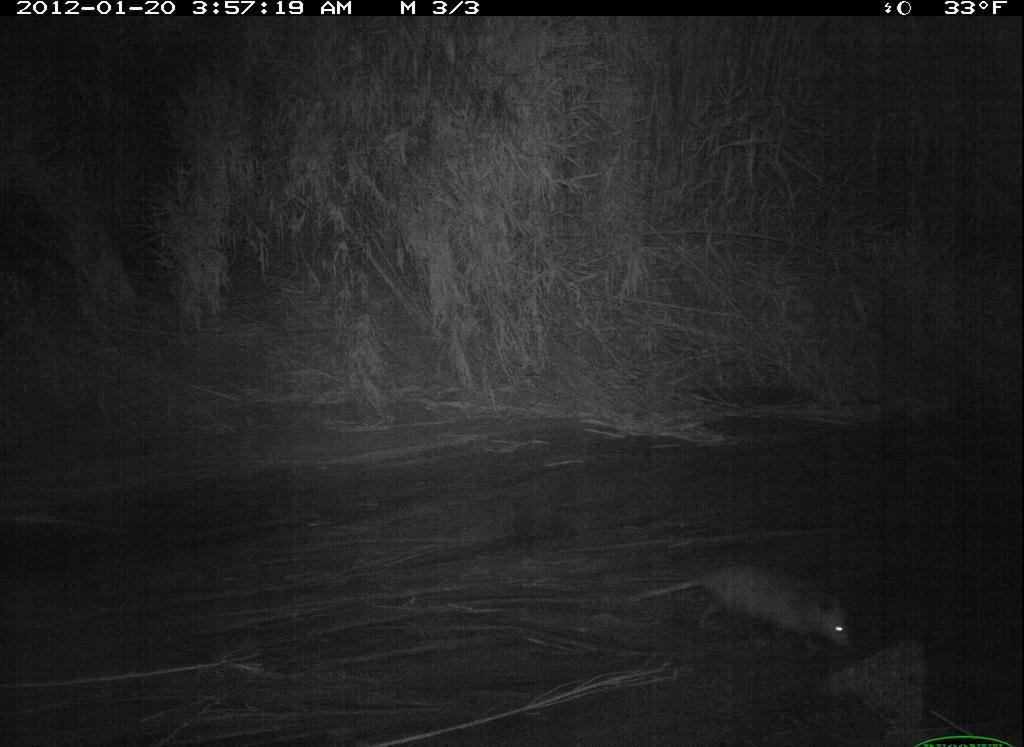opossum: (625, 548, 856, 655)
